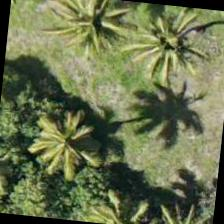Kelapa_Sawit: (8, 94, 107, 193), (114, 0, 211, 84), (51, 0, 148, 69)
